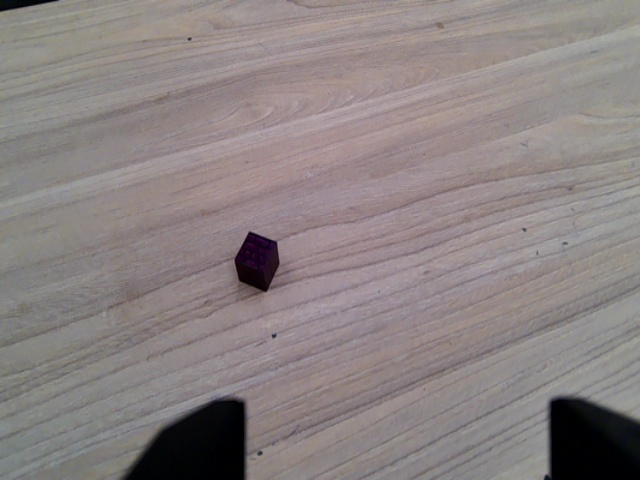brick: (229, 229, 282, 295)
